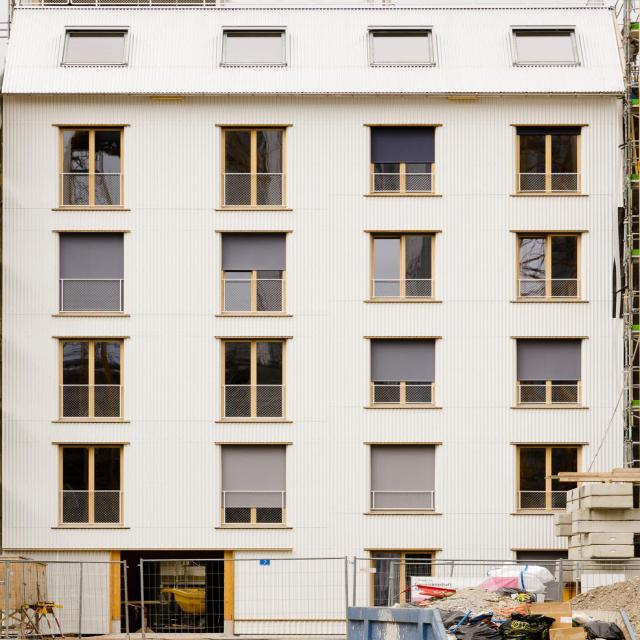door: (121, 556, 221, 633)
window: (61, 340, 127, 421), (60, 127, 126, 207), (59, 233, 125, 313), (61, 446, 127, 526), (222, 445, 287, 522), (224, 126, 284, 209), (223, 232, 283, 315), (225, 340, 285, 422), (370, 231, 433, 301), (372, 445, 435, 515), (370, 125, 435, 192), (372, 338, 436, 406), (518, 230, 580, 299), (519, 126, 578, 192), (518, 338, 577, 404), (366, 550, 434, 605), (522, 445, 574, 507), (516, 32, 578, 63), (373, 32, 432, 64), (67, 34, 123, 64), (227, 34, 283, 63)
